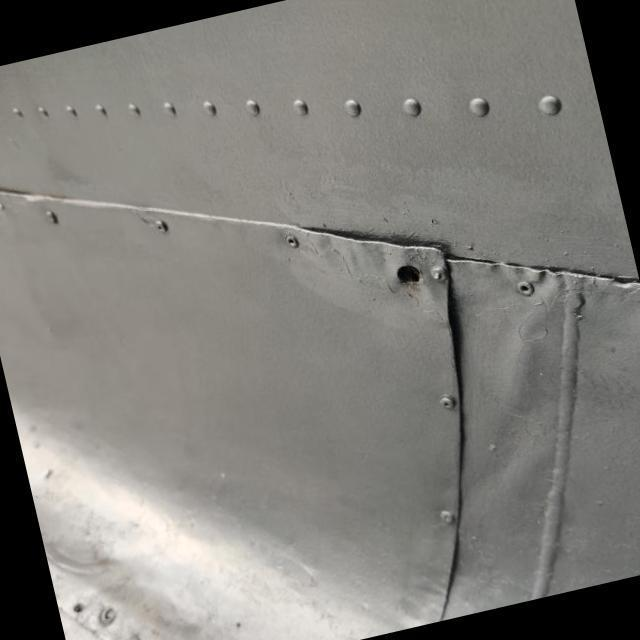Fastener Damage: (354, 206, 476, 331)
